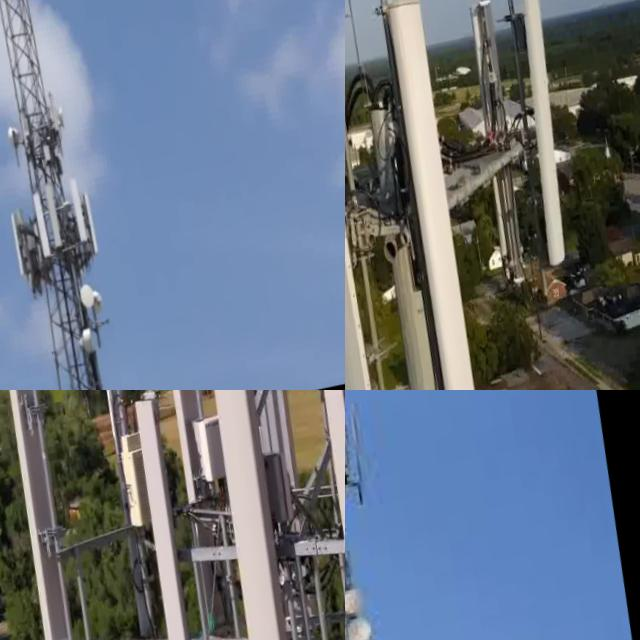GSM Antenna: (353, 0, 518, 390), (183, 390, 328, 640), (484, 0, 592, 267), (0, 390, 114, 640), (222, 390, 334, 638), (345, 0, 415, 390), (454, 0, 544, 277), (119, 390, 218, 640), (144, 390, 248, 586), (303, 390, 345, 640), (8, 208, 39, 287), (44, 180, 74, 259), (69, 174, 98, 253), (31, 189, 61, 265), (83, 193, 108, 263), (48, 91, 67, 137)
Microwave Antenna: (345, 579, 376, 619), (6, 116, 31, 161), (345, 617, 382, 640), (83, 280, 105, 317), (84, 326, 106, 360), (57, 103, 75, 137), (95, 288, 110, 315)
